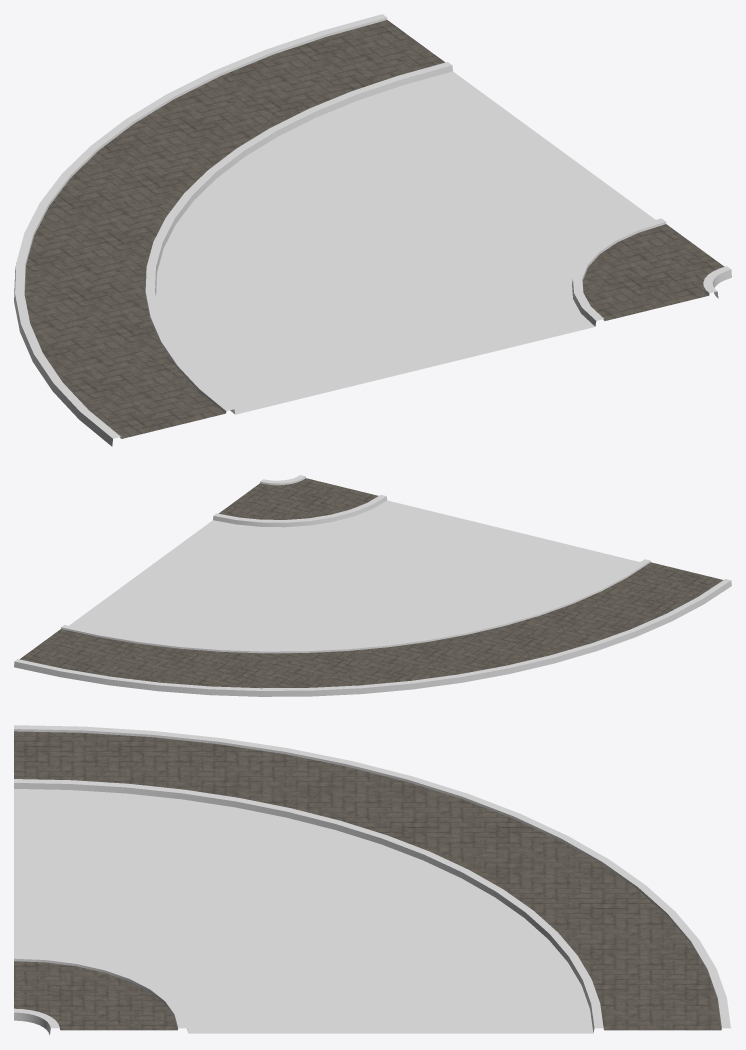
File: Road3.fbx
3 renders of one model, top to bottom at view 1: azimuth 30°, elevation 25°; view 2: azimuth 150°, elevation 25°; view 3: azimuth 270°, elevation 25°, orthographic. The views are drawn at different scales.
Parts seen in each view (by area): view 1: polySurface39; view 2: polySurface39; view 3: polySurface39.
Boxes of the visible parts, box(x1,y1,x2,y2) form: polySurface39: box(14, 14, 731, 446); polySurface39: box(14, 475, 731, 696); polySurface39: box(14, 725, 730, 1035).
Size of the model in its own units: 7.62 by 0.0896 by 7.62.
